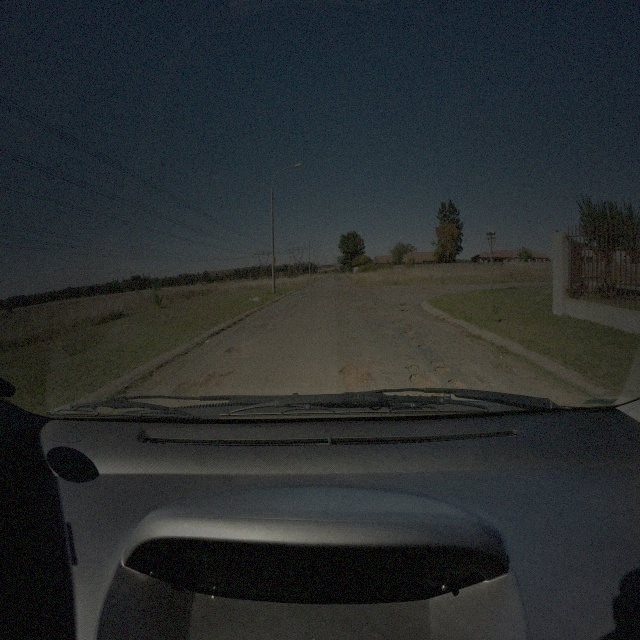pothole: (171, 373, 225, 402), (338, 361, 379, 389), (409, 374, 438, 396), (225, 345, 247, 356), (478, 373, 492, 390), (445, 378, 464, 389), (497, 363, 512, 376), (434, 367, 452, 375), (378, 326, 391, 336), (253, 322, 267, 331), (384, 312, 397, 321), (370, 360, 383, 368), (402, 331, 415, 338), (410, 364, 422, 370), (399, 308, 410, 313), (418, 344, 425, 351)
